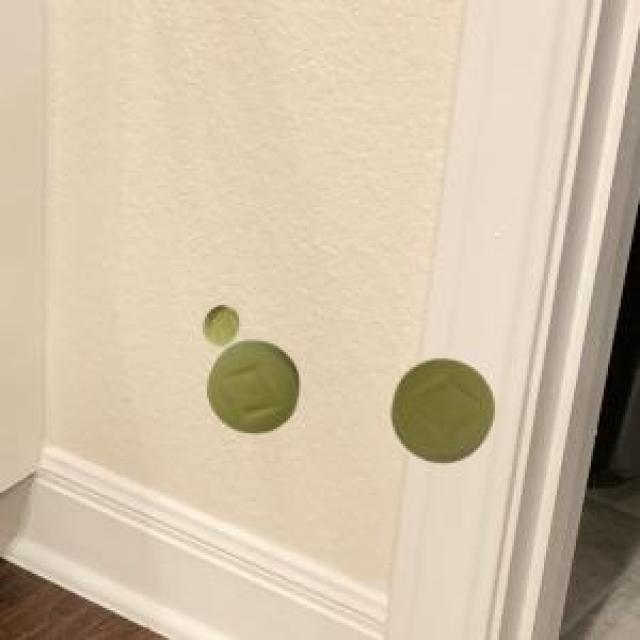Decolgen: (188, 294, 307, 445), (376, 350, 505, 470)
